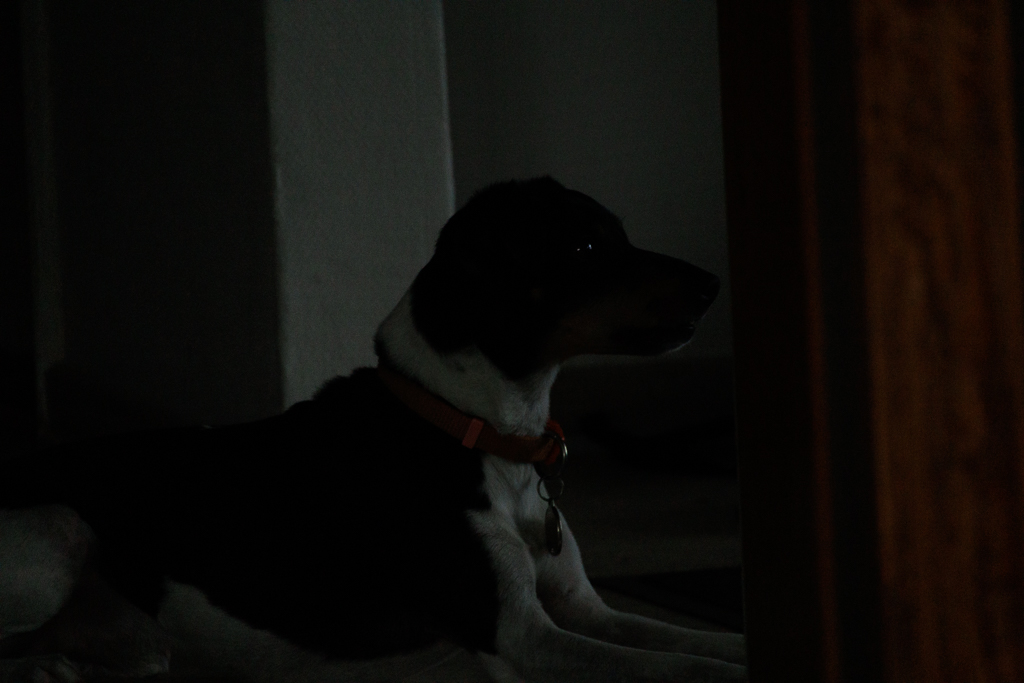Dog: (0, 167, 754, 683)
